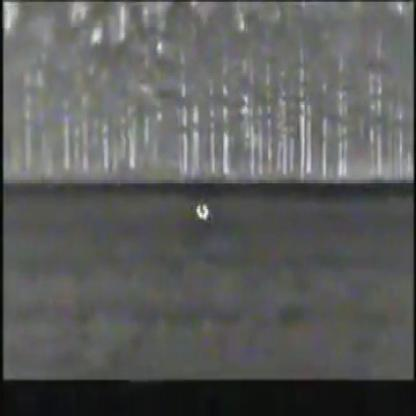rehkitze: (194, 202, 211, 222)
